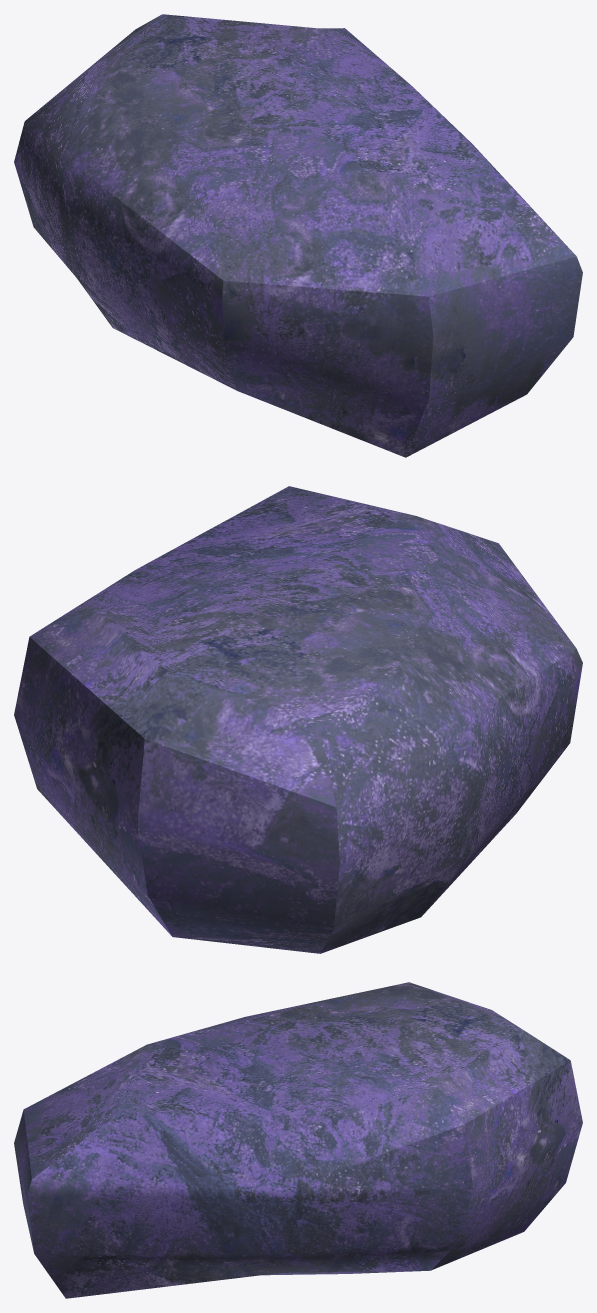
File: AlienGrove_Rock1_SM.fbx
3 views of the same model, one above another, from view 1: azimuth 30°, elevation 25°; view 2: azimuth 150°, elevation 25°; view 3: azimuth 270°, elevation 25° (orthographic). The views are drawn at different scales.
Visible parts, largest first — view 1: AlienGrove_Rock1_SM_LOD0; view 2: AlienGrove_Rock1_SM_LOD0; view 3: AlienGrove_Rock1_SM_LOD0.
Part boxes in pixels (x1,y1,x2,y2): AlienGrove_Rock1_SM_LOD0: (14,14,582,457); AlienGrove_Rock1_SM_LOD0: (14,486,582,953); AlienGrove_Rock1_SM_LOD0: (14,982,582,1298).
Size of what is drawn, in the model's own units: 140 by 99.32 by 204.
